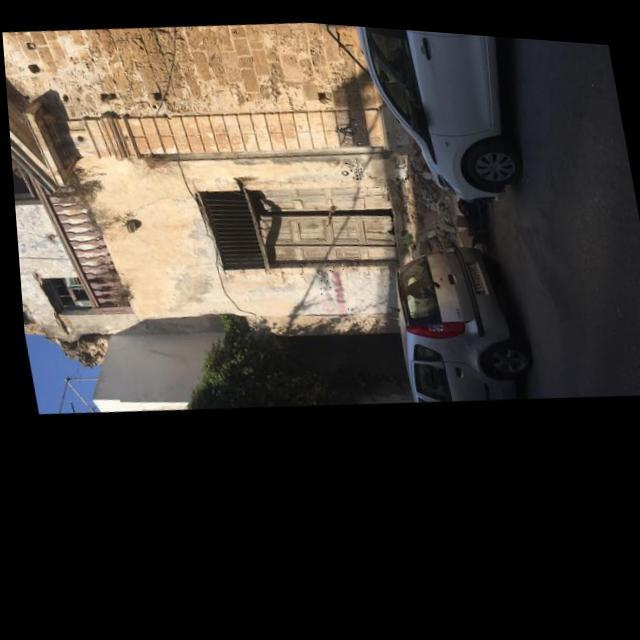-: (306, 256, 346, 299), (312, 264, 344, 310), (331, 114, 358, 142), (335, 153, 361, 180)
